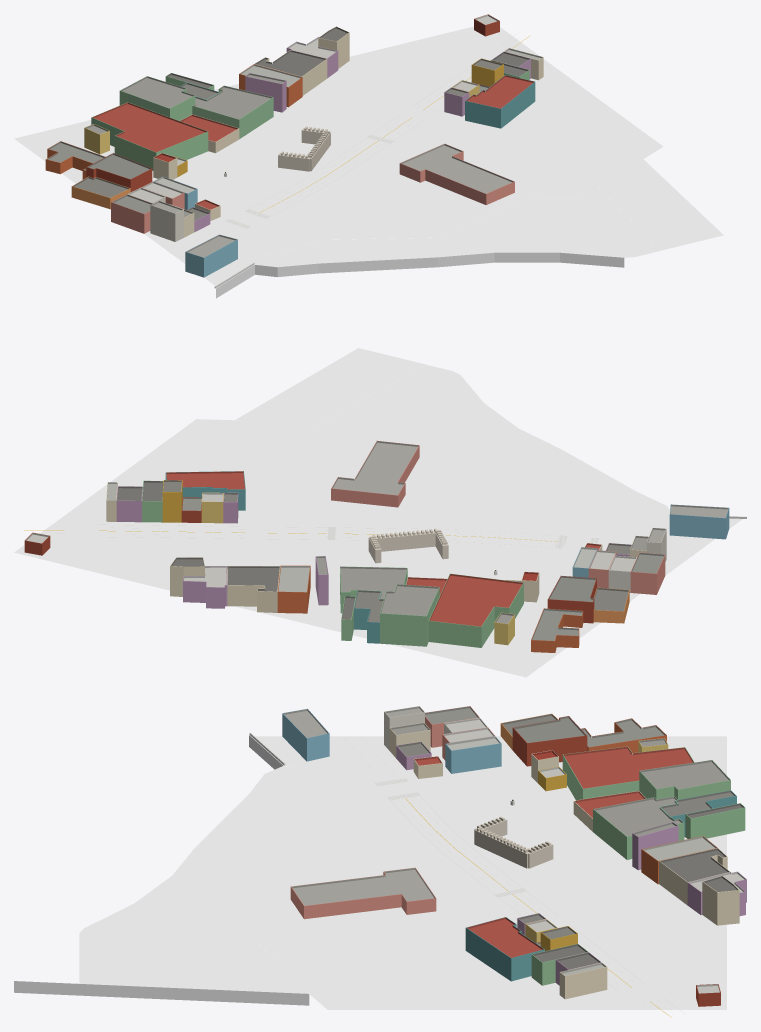
3 renders of one model, top to bottom at view 1: azimuth 30°, elevation 25°; view 2: azimuth 150°, elevation 25°; view 3: azimuth 270°, elevation 25°, orthographic. The views are drawn at different scales.
Parts seen in each view (by area): view 1: plaza, roofs, walls, grass, sand, asphalt, coast, concrete, stone, markings; view 2: plaza, roofs, grass, walls, sand, asphalt, concrete, stone, markings; view 3: plaza, roofs, grass, walls, sand, asphalt, coast, concrete, stone, markings.
Part boxes in pixels (<box>): plaza: <box>14,26,723,287</box>; roofs: <box>46,14,543,257</box>; walls: <box>45,19,543,277</box>; grass: <box>238,45,592,263</box>; sand: <box>252,182,659,267</box>; asphalt: <box>35,36,628,261</box>; coast: <box>216,252,624,298</box>; concrete: <box>184,109,531,263</box>; stone: <box>214,126,330,288</box>; markings: <box>180,34,529,257</box>; plaza: <box>14,348,742,677</box>; roofs: <box>25,440,728,641</box>; grass: <box>109,425,669,572</box>; walls: <box>24,446,729,652</box>; sand: <box>311,365,669,520</box>; asphalt: <box>40,420,705,671</box>; concrete: <box>263,448,710,580</box>; stone: <box>368,516,746,575</box>; markings: <box>24,524,695,554</box>; plaza: <box>79,736,726,1009</box>; roofs: <box>282,706,746,993</box>; grass: <box>242,756,718,969</box>; walls: <box>282,712,746,1006</box>; sand: <box>79,766,300,958</box>; asphalt: <box>272,736,726,1009</box>; coast: <box>14,735,309,1005</box>; concrete: <box>270,737,629,930</box>; stone: <box>249,732,553,868</box>; markings: <box>344,735,685,1017</box>.
Size of what is drawn, in the model's own units: 266 by 19.15 by 283.
